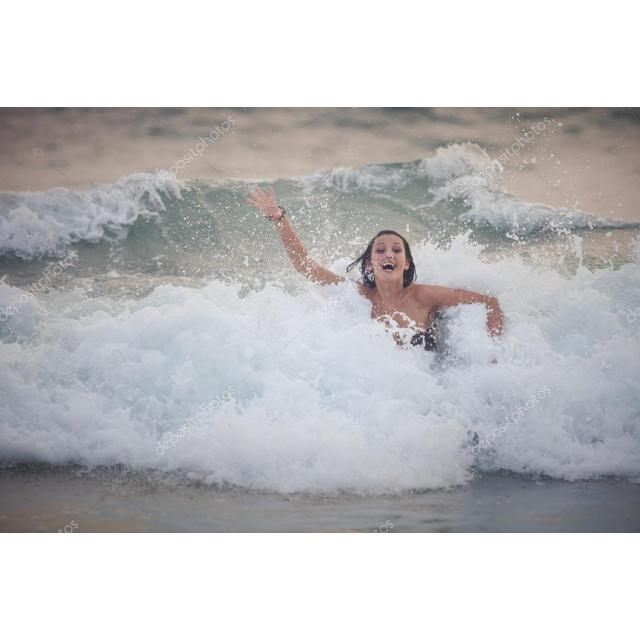human: (246, 182, 505, 355)
